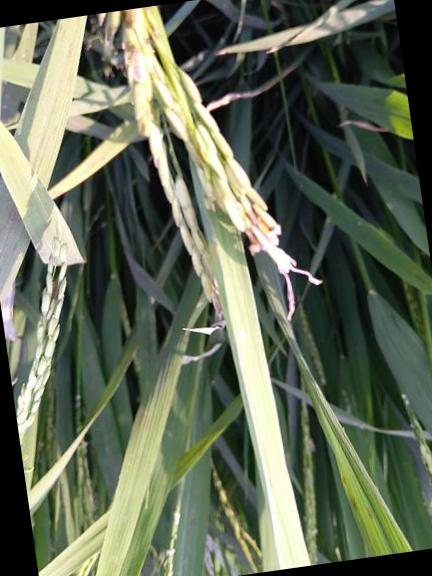Panicle Blight: (241, 187, 281, 254), (190, 151, 224, 208), (199, 250, 223, 318), (137, 111, 160, 169), (97, 11, 121, 56), (123, 41, 147, 86), (142, 13, 160, 48), (123, 9, 136, 31)
